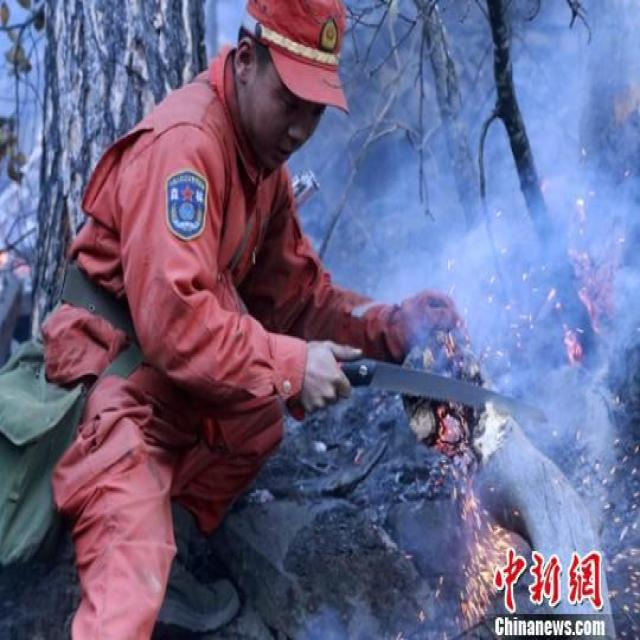fire: (454, 472, 513, 612), (552, 253, 613, 369), (565, 184, 593, 237)
other: (25, 1, 435, 635)
smoke: (423, 203, 500, 299), (525, 76, 580, 156)
